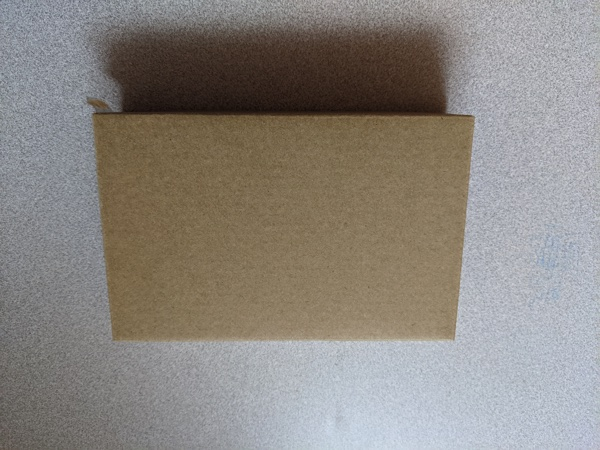cardboard: (70, 85, 495, 360)
